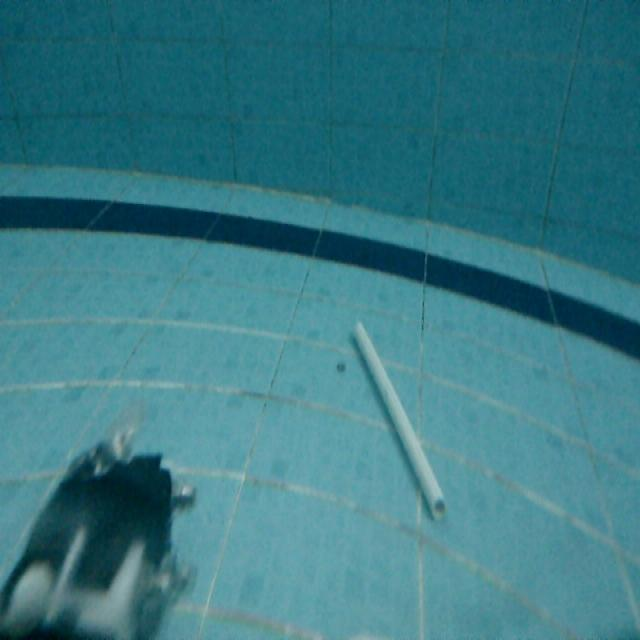Cube: (349, 317, 450, 526)
